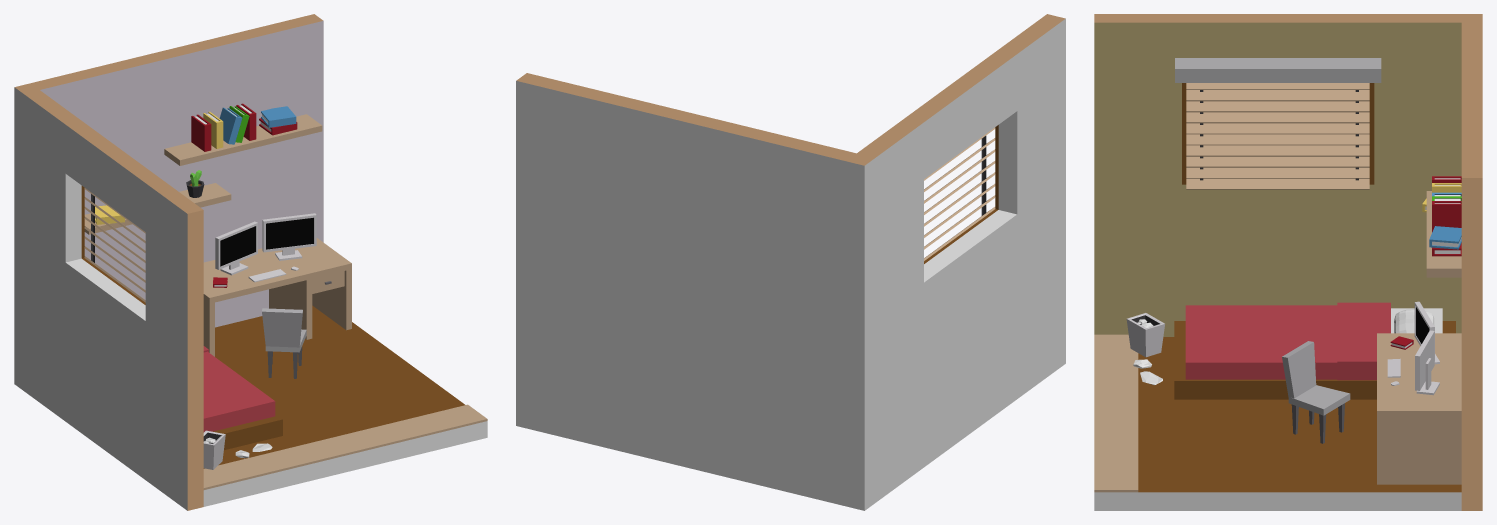
File: sceneglb.glb
The picture shows the model from 3 angles, left to right: view 1: azimuth 30°, elevation 25°; view 2: azimuth 150°, elevation 25°; view 3: azimuth 270°, elevation 25°; orthographic projection. The views are drawn at different scales.
Parts seen in each view (by area): view 1: Room.002, wall2, Room, Suelo, Room.001, Mesa, Cube.005, Estanteria, Cube.014, Cube.016, Cube, Cube.012 (+10 smaller); view 2: Room.001, Room.002, Cube; view 3: wall1, Room, Cube, Cube.005, Room.001, Suelo, Patas.001, Mesa, Cube.003, Room.002, Cube.004, Cube.012 (+8 smaller).
Boxes of the visible parts, box(x1,y1,x2,y2) form: Room.002: box(23, 90, 203, 510); wall2: box(40, 21, 323, 327); Room: box(203, 305, 487, 506); Suelo: box(203, 404, 487, 489); Room.001: box(14, 14, 323, 390); Mesa: box(203, 238, 351, 303); Cube.005: box(203, 346, 275, 432); Estanteria: box(164, 114, 322, 165); Cube.014: box(262, 213, 316, 260); Cube.016: box(215, 221, 257, 275); Cube: box(84, 188, 145, 302); Cube.012: box(262, 308, 302, 347); Room.001: box(516, 73, 875, 510); Room.002: box(857, 14, 1065, 502); Cube: box(924, 127, 995, 260); wall1: box(1094, 22, 1461, 336); Room: box(1094, 337, 1461, 510); Cube: box(1186, 83, 1369, 189); Cube.005: box(1185, 302, 1442, 380); Room.001: box(1461, 14, 1482, 510); Suelo: box(1094, 334, 1138, 492); Patas.001: box(1377, 417, 1461, 484); Mesa: box(1377, 333, 1461, 417); Cube.003: box(1175, 58, 1381, 82); Room.002: box(1094, 14, 1461, 184); Cube.004: box(1174, 321, 1455, 399); Cube.012: box(1282, 341, 1316, 398).
Size of the model in its own units: 2.11 by 2 by 2.11.
